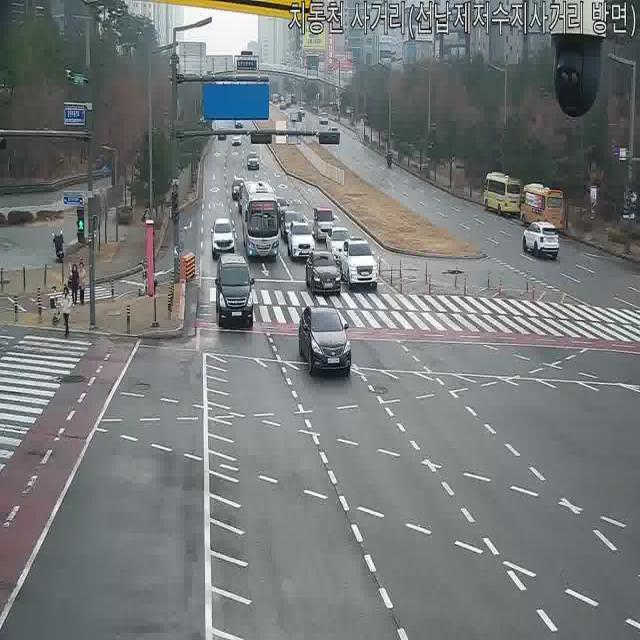Bus: (240, 178, 282, 258), (518, 181, 566, 235), (482, 172, 524, 216)
Car: (300, 308, 354, 380), (215, 254, 256, 330), (339, 238, 378, 289), (305, 250, 342, 298), (518, 218, 555, 258), (287, 220, 315, 262), (210, 217, 236, 259), (325, 225, 353, 262), (312, 206, 338, 243), (235, 182, 260, 215), (280, 209, 304, 243), (268, 194, 290, 223), (231, 176, 247, 200), (246, 152, 260, 171), (234, 113, 244, 130), (232, 131, 242, 146), (318, 111, 328, 125), (289, 110, 299, 124), (279, 97, 288, 109), (297, 107, 305, 118)
Motorcycle: (384, 150, 392, 168)
Truck: (318, 111, 328, 125)
